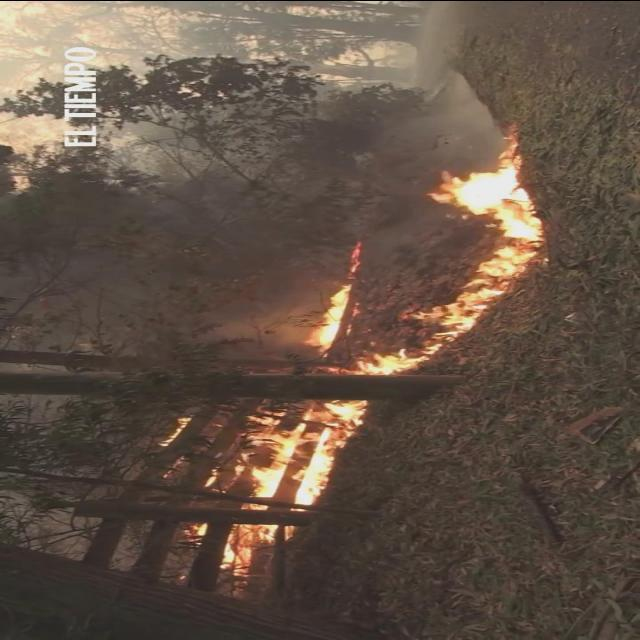Fire: (399, 152, 545, 338), (225, 399, 362, 507), (319, 343, 439, 374), (220, 522, 294, 572), (305, 284, 353, 351), (154, 415, 193, 447), (343, 240, 365, 276), (180, 520, 208, 538)
